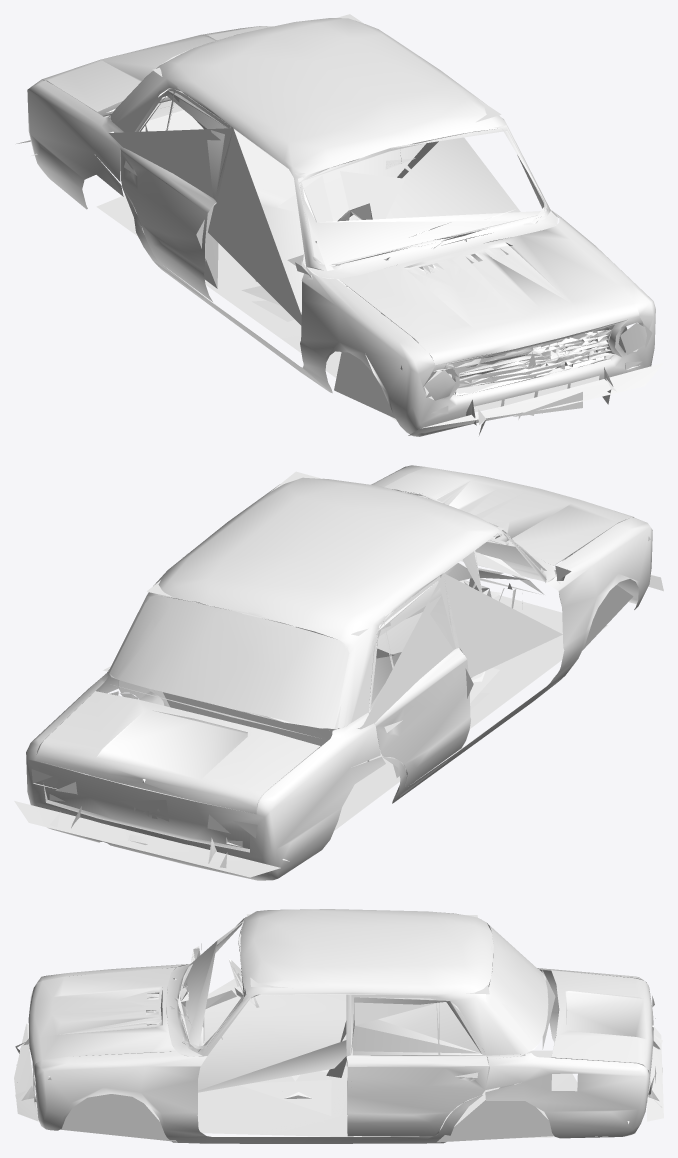
The picture shows the model from 3 angles, top to bottom: view 1: azimuth 30°, elevation 25°; view 2: azimuth 150°, elevation 25°; view 3: azimuth 270°, elevation 25°; orthographic projection. The views are drawn at different scales.
Bounding box in the file's own units: 1.63 × 1.12 × 4.16.
1 material, 1 textured.
